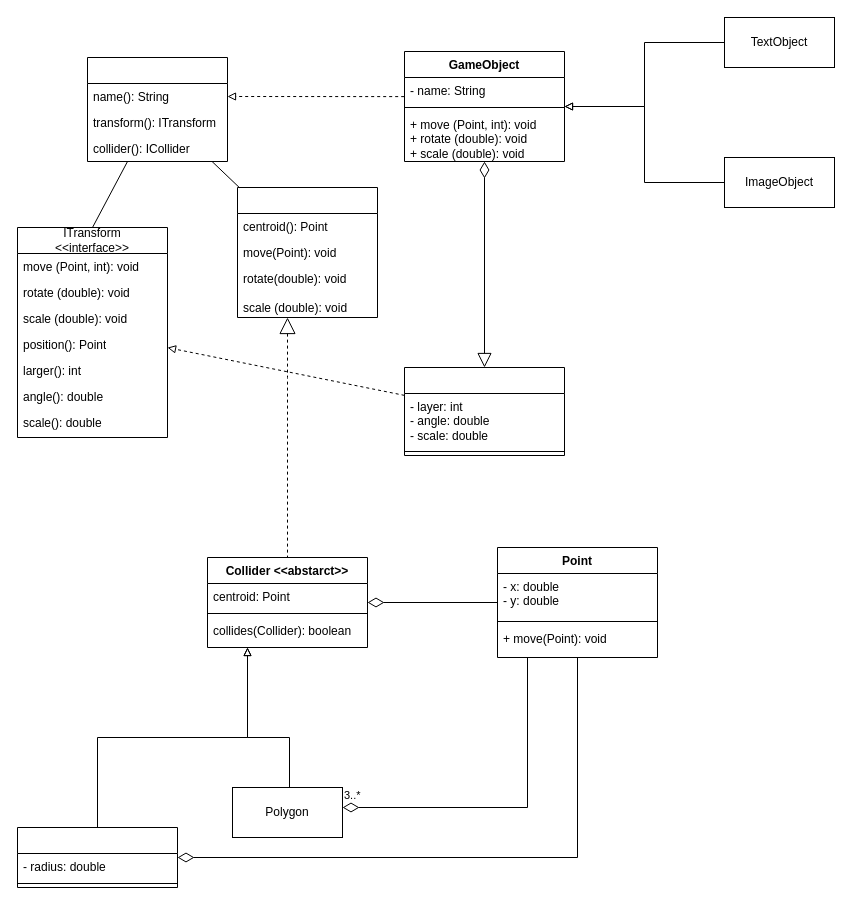
Image size: 852x905. Some labels were removed from this diagram. The shapes that lost their labels are listed below. From the top down, each one's box as (x1, y1, x2, y2) in pixels, then its label:
(86, 56, 228, 162): IGameObject <<interface>>
(236, 186, 378, 318): ICollider <<interface>>
(404, 366, 564, 456): Transform
(16, 826, 178, 888): Circle
